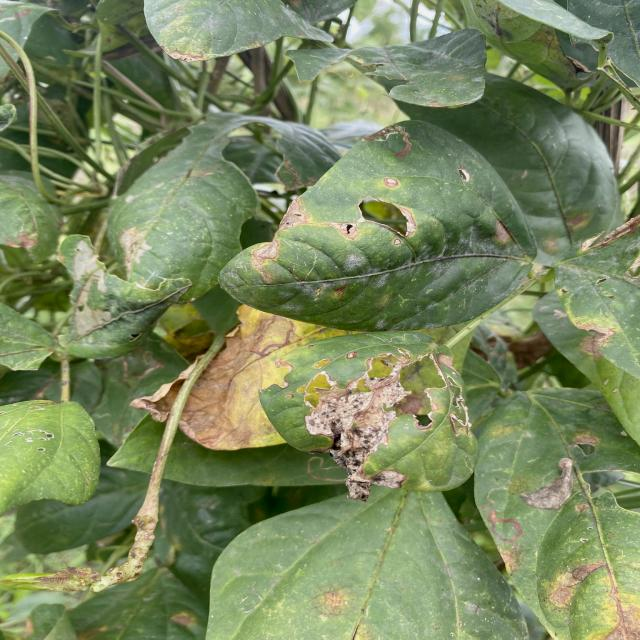leaf-moderate: (260, 332, 477, 500)
sitaw-aphid-high: (206, 489, 527, 640), (0, 400, 100, 513)
sitaw-aphid-low: (219, 121, 536, 331)
